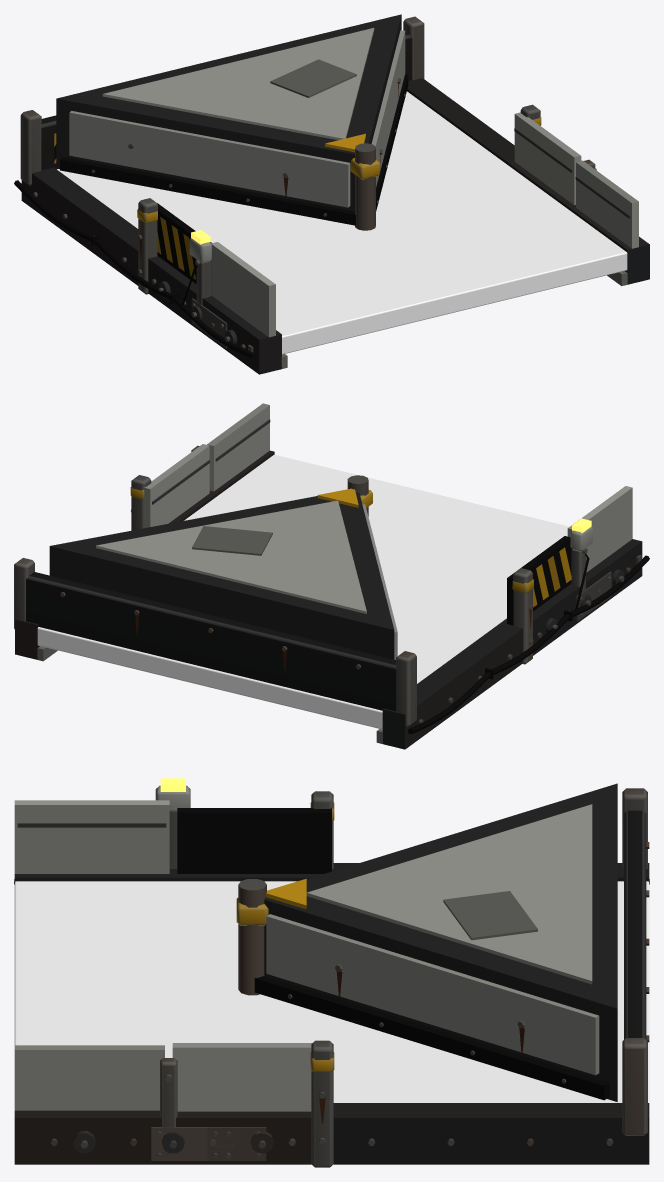
Rendered from conveyor_splitter.glb.
3 views of the same model, one above another, from view 1: azimuth 30°, elevation 25°; view 2: azimuth 150°, elevation 25°; view 3: azimuth 270°, elevation 25° (orthographic). The views are drawn at different scales.
Parts seen in each view (by area): view 1: Frame, Belt; view 2: Frame, Belt; view 3: Frame, Belt.
Boxes of the visible parts, x1,y1,x2,y2 form: Frame: (14, 14, 649, 374); Belt: (57, 91, 627, 354); Frame: (14, 403, 649, 749); Belt: (37, 454, 569, 729); Frame: (14, 778, 649, 1167); Belt: (14, 881, 649, 1102).
Bounding box in the file's own units: 1.98 × 0.54 × 2.
